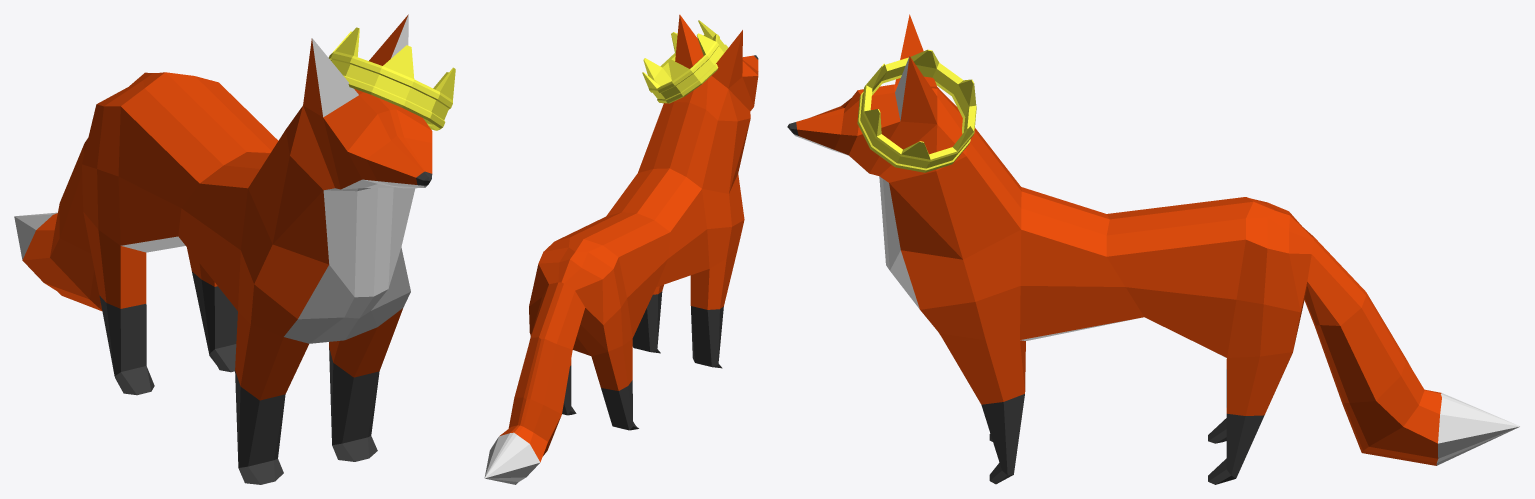
The model's file is King fox.fbx.
The picture shows the model from 3 angles, left to right: view 1: azimuth 30°, elevation 25°; view 2: azimuth 150°, elevation 25°; view 3: azimuth 270°, elevation 25°; orthographic projection. The views are drawn at different scales.
Visible parts, largest first — view 1: Fox.001, Crown; view 2: Fox.001, Crown; view 3: Fox.001, Crown.
Boxes of the visible parts, x1,y1,x2,y2 form: Fox.001: [14, 14, 432, 484]; Crown: [328, 27, 455, 130]; Fox.001: [484, 14, 758, 484]; Crown: [642, 20, 728, 103]; Fox.001: [787, 14, 1520, 484]; Crown: [857, 49, 976, 172].
Bounding box in the file's own units: 59.4 × 168 × 260.
